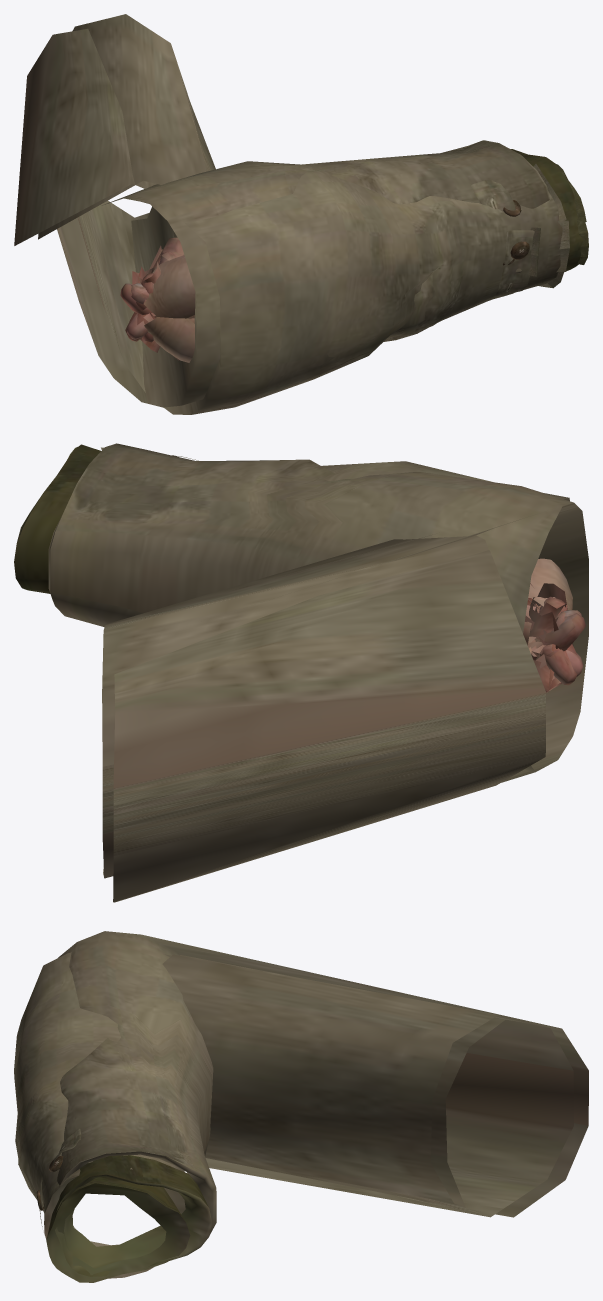
File: viewmodel_hands_cloth.glb
3 views of the same model, one above another, from view 1: azimuth 30°, elevation 25°; view 2: azimuth 150°, elevation 25°; view 3: azimuth 270°, elevation 25° (orthographic). The views are drawn at different scales.
Bounding box in the file's own units: 14.03 × 6.06 × 14.98.
2 materials, 2 textured.
